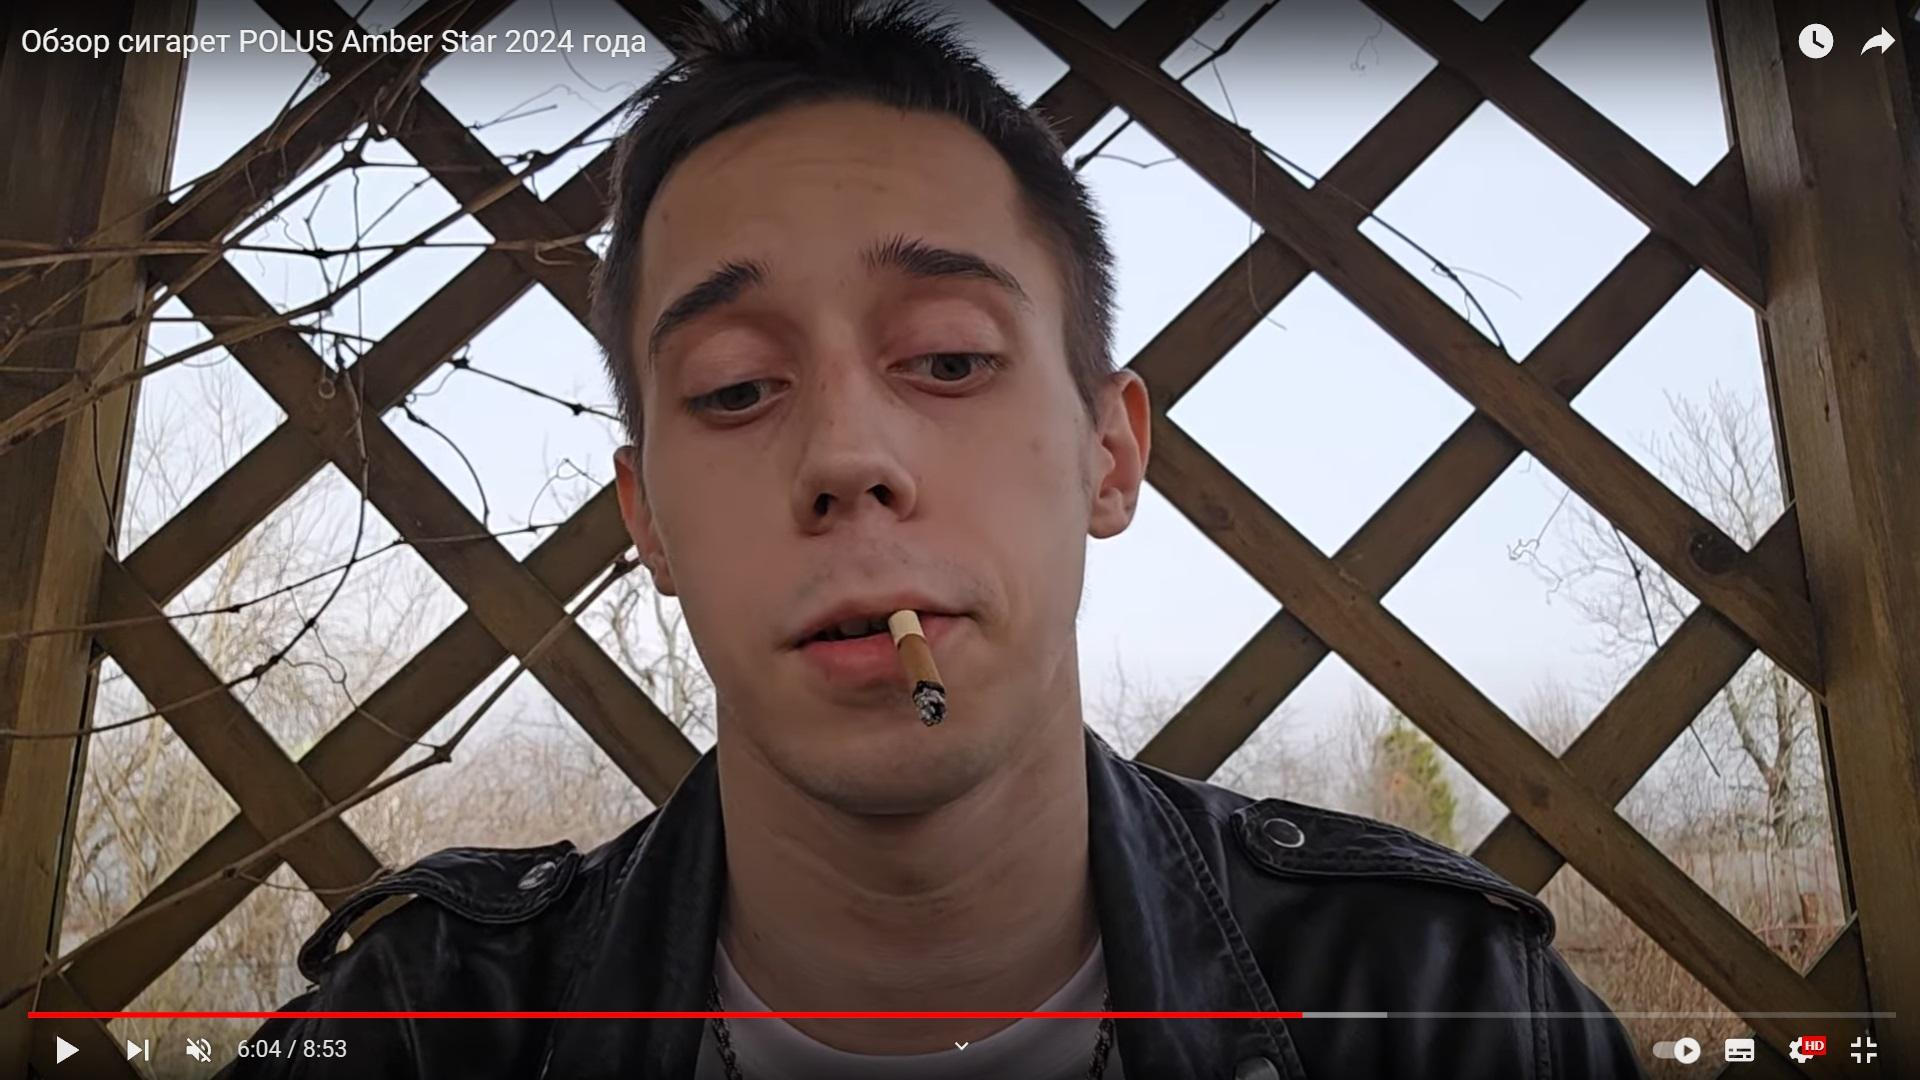cigarette: (886, 608, 948, 727)
